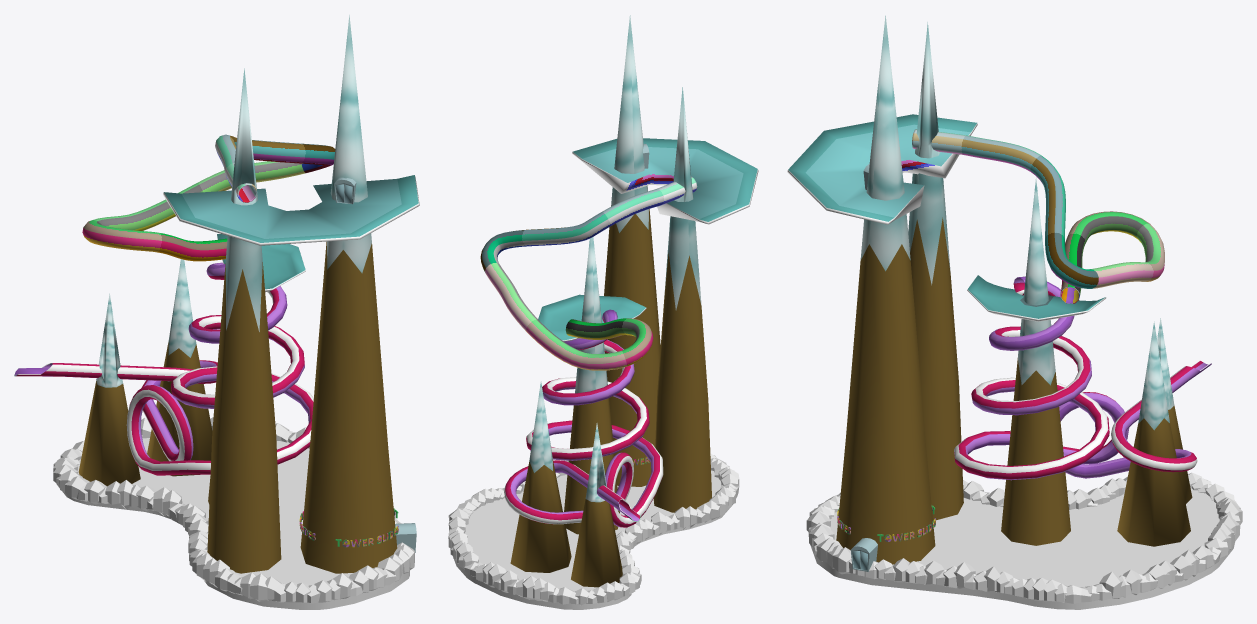
The model's file is TobogganTower.fbx.
The picture shows the model from 3 angles, left to right: view 1: azimuth 30°, elevation 25°; view 2: azimuth 150°, elevation 25°; view 3: azimuth 270°, elevation 25°; orthographic projection. The views are drawn at different scales.
Visible parts, largest first — view 1: TobogganTower.002, TobogganTower3, Toboggan, TTLavaPit.001, TobogganTower3Top, BezierCurve.001, TTLavaPit, TobogganTower.001, TobogganTower4, TobogganTower3Peak, TobogganTowerTop, TobogganTower4.001 (+1 smaller); view 2: TobogganTower3, TobogganTower.002, Toboggan, BezierCurve.001, TTLavaPit.001, TobogganTower3Top, TTLavaPit, TobogganTower.001, TobogganTower, TobogganTower4, TobogganTowerTop, TobogganTower3Peak (+1 smaller); view 3: TobogganTower.002, TTLavaPit, TTLavaPit.001, Toboggan, TobogganTower3, TobogganTower, BezierCurve.001, TobogganTower3Top, TobogganTower.001, TobogganTowerTop, TobogganTower3Peak, TTDoor (+2 smaller).
Boxes of the visible parts, x1,y1,x2,y2 form: TobogganTower.002: [300, 15, 397, 573]; TobogganTower3: [207, 236, 281, 573]; Toboggan: [14, 262, 313, 475]; TTLavaPit.001: [53, 417, 414, 603]; TobogganTower3Top: [163, 175, 419, 245]; BezierCurve.001: [82, 134, 335, 261]; TTLavaPit: [62, 438, 409, 609]; TobogganTower.001: [147, 259, 212, 476]; TobogganTower4: [78, 381, 140, 486]; TobogganTower3Peak: [231, 68, 257, 205]; TobogganTowerTop: [217, 234, 305, 292]; TobogganTower4.001: [96, 293, 122, 387]; TobogganTower3: [653, 216, 711, 512]; TobogganTower.002: [604, 15, 660, 486]; Toboggan: [504, 309, 663, 527]; BezierCurve.001: [480, 176, 697, 370]; TTLavaPit.001: [448, 453, 739, 605]; TobogganTower3Top: [572, 138, 758, 224]; TTLavaPit: [450, 470, 732, 609]; TobogganTower.001: [510, 381, 571, 572]; TobogganTower: [564, 237, 619, 534]; TobogganTower4: [571, 499, 622, 587]; TobogganTowerTop: [538, 294, 646, 341]; TobogganTower3Peak: [673, 87, 693, 201]; TobogganTower.002: [836, 15, 935, 564]; TTLavaPit: [810, 488, 1234, 609]; TTLavaPit.001: [806, 472, 1242, 603]; Toboggan: [954, 276, 1211, 480]; TobogganTower3: [908, 173, 963, 520]; TobogganTower: [1001, 177, 1070, 545]; BezierCurve.001: [912, 129, 1164, 303]; TobogganTower3Top: [787, 114, 977, 224]; TobogganTower.001: [1117, 321, 1190, 546]; TobogganTowerTop: [967, 275, 1106, 321]; TobogganTower3Peak: [915, 22, 940, 158]; TTDoor: [850, 538, 877, 571].
Size of what is drawn, in the model's own units: 448 by 640 by 847.
